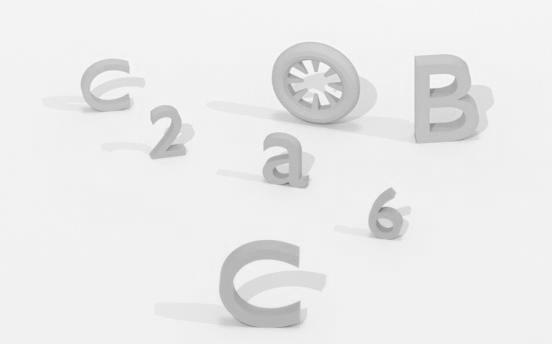chu_khoi: (219, 240, 300, 327), (414, 55, 479, 142), (81, 58, 130, 111), (263, 132, 308, 187)
dia_sao: (272, 42, 360, 123)
so_khoi: (150, 105, 185, 158), (368, 188, 403, 239)
